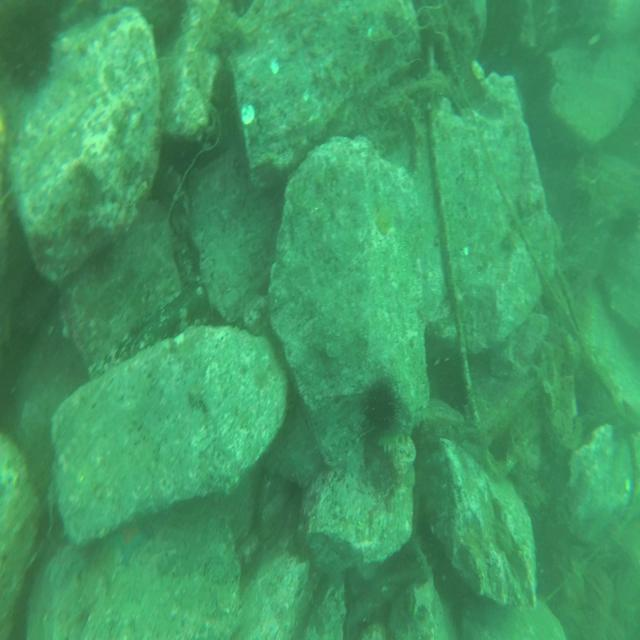echinus: (4, 8, 53, 94), (428, 357, 471, 419), (366, 375, 402, 429)
